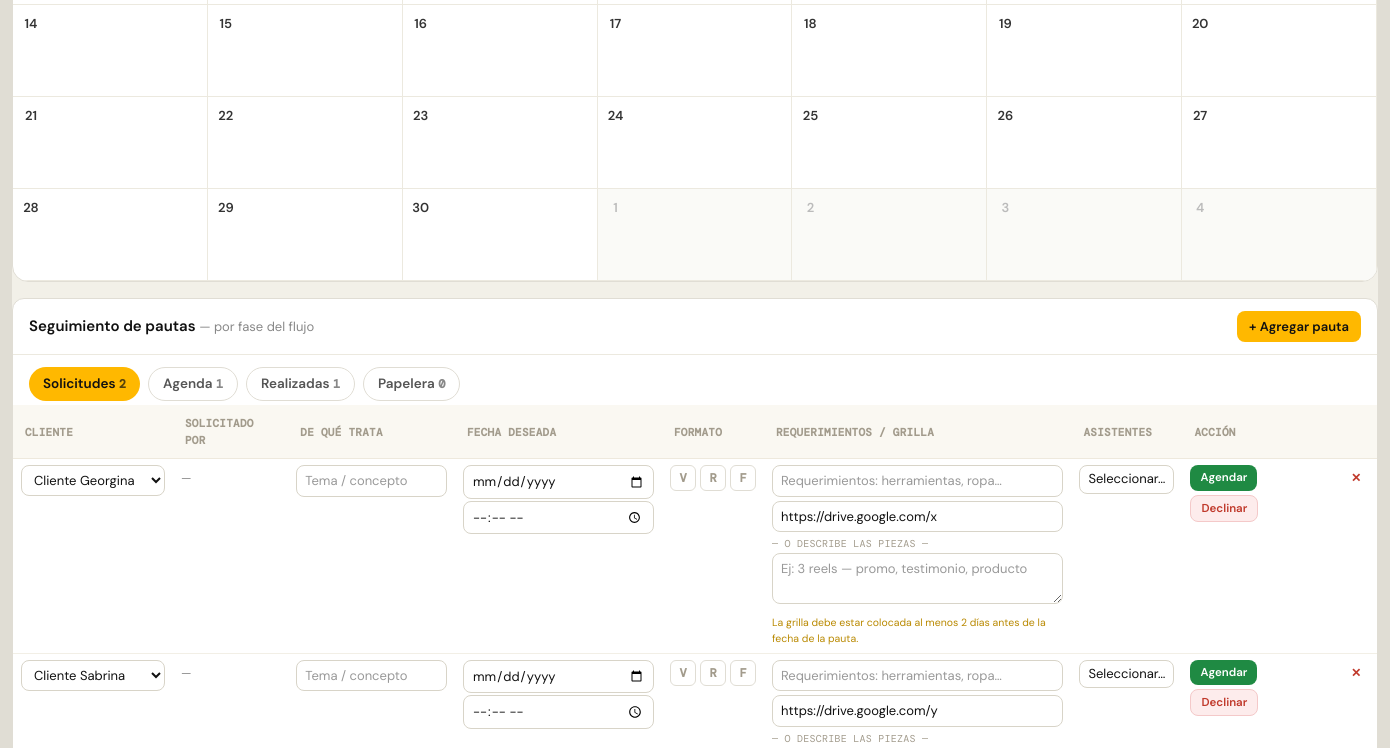
AudiovisualView — la tabla de seguimiento sigue al mes que se ve en el calendario › al navegar a otro mes, una pauta agendada de este mes deja de verse en la tabla; las solicitudes sin fecha siguen
The width and height of the screenshot is (1390, 748).
(page scrolled)
# Ir a la pestaña "Agenda" de la tabla directamente (ya no depende de los SummaryCard).
Step 1. Click the button "Agenda 1" → (193, 384), box [148, 367, 238, 401]
(page scrolled)
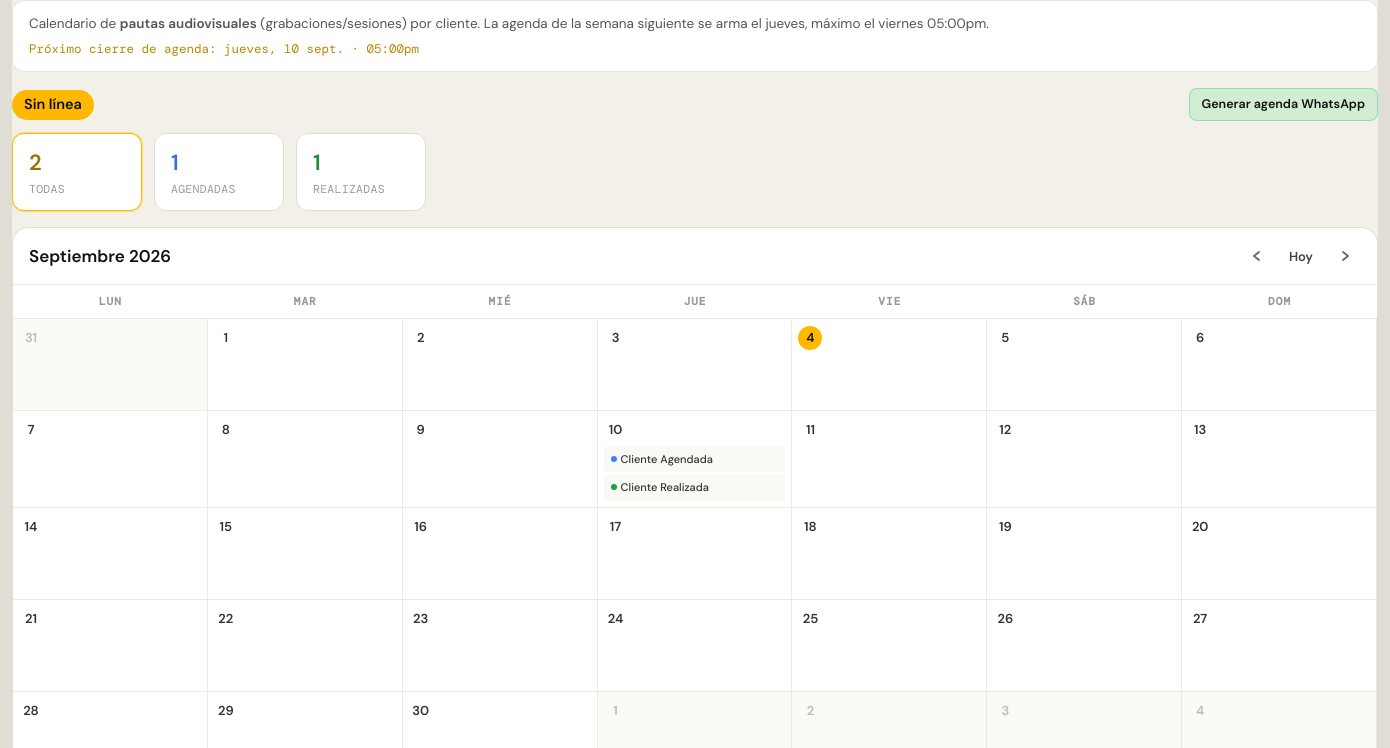
Step 2. Click the button named "Mes siguiente" → (1345, 256), box [1329, 240, 1361, 272]
(page scrolled)
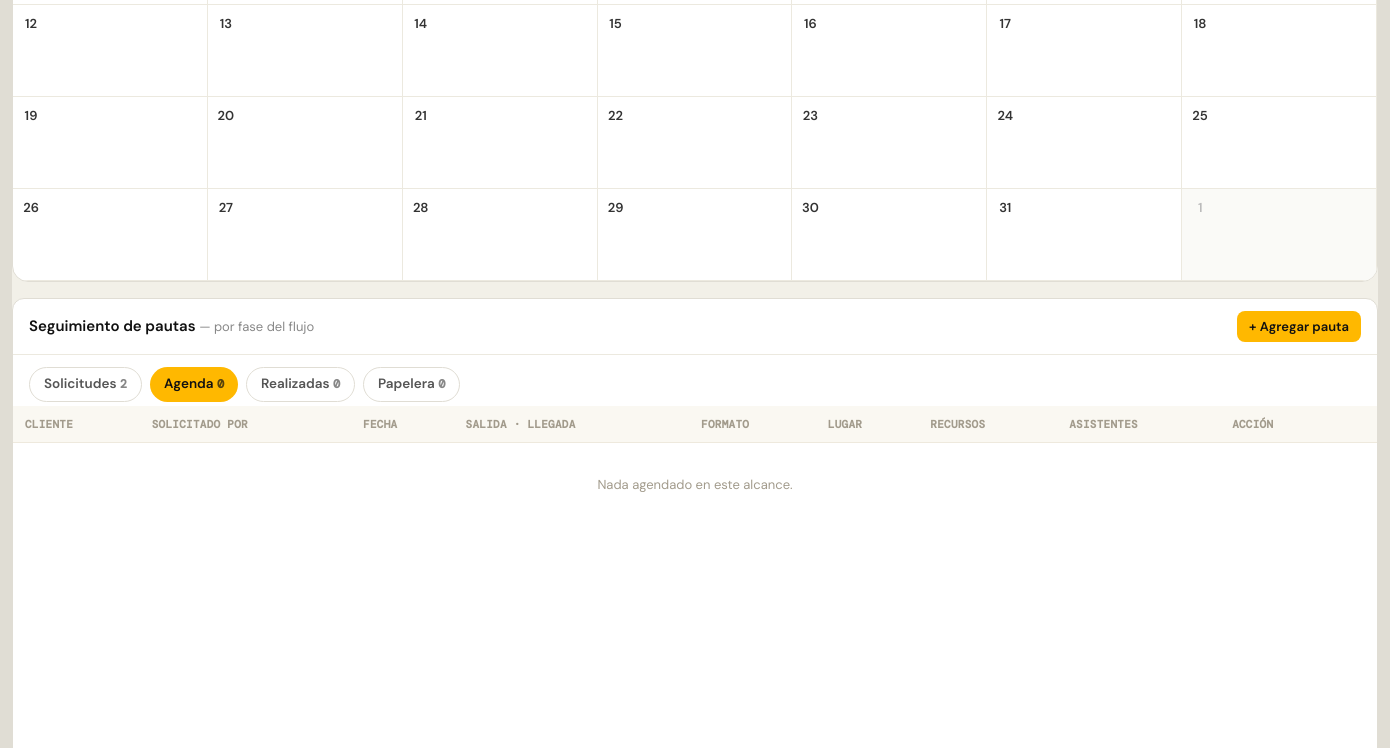
expect the button "Cliente Agendada" is gone: met
Step 3. Click the button "Solicitudes 2" → (86, 384), box [29, 367, 142, 402]
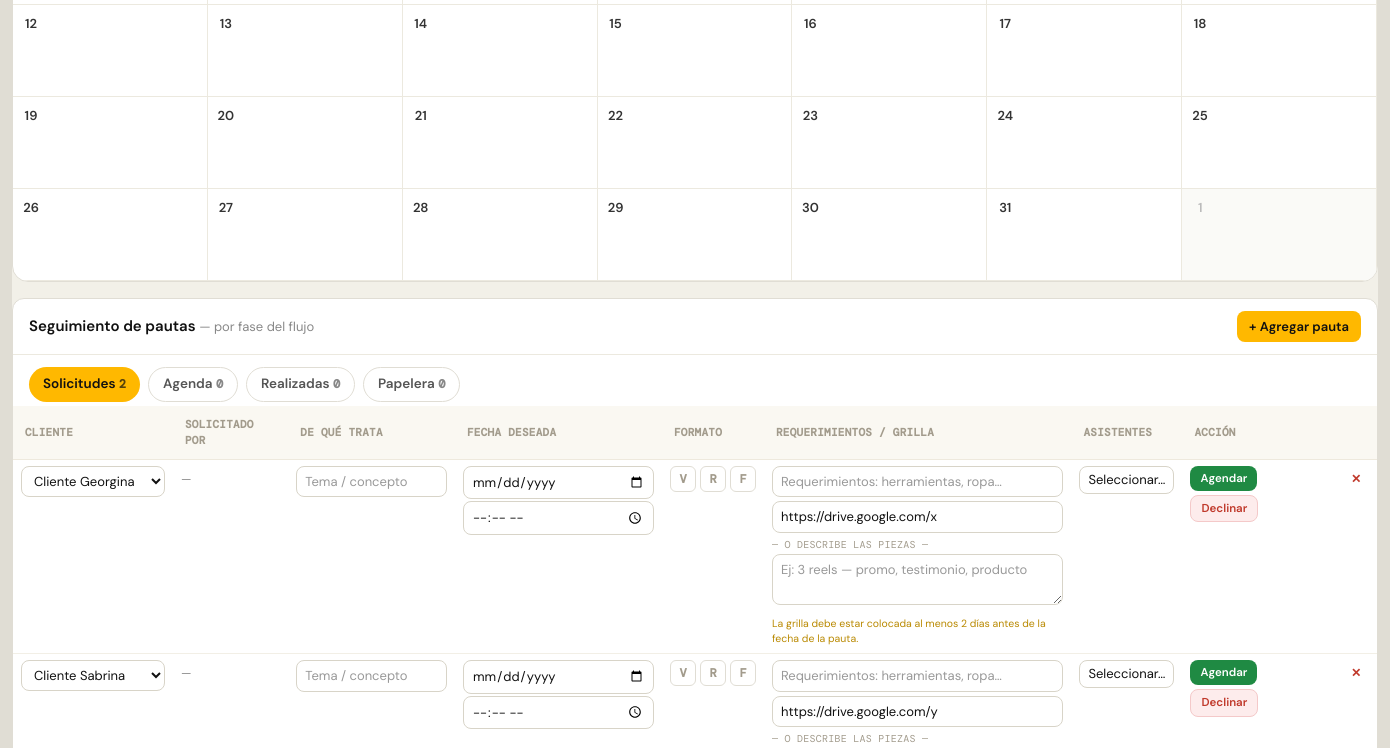
expect the 1st dropdown showing "Cliente Georgina" is shown: met, box [21, 466, 165, 496]
expect the 2nd dropdown showing "Cliente Sabrina" is shown: met, box [21, 660, 165, 691]
